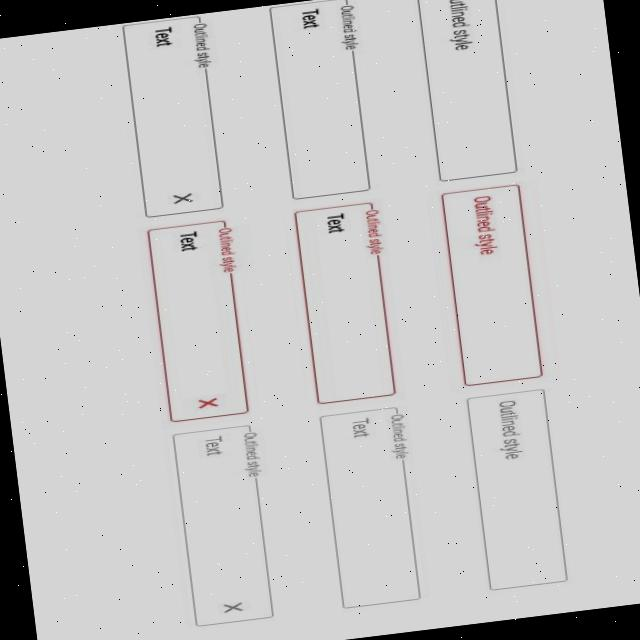VTextField: (292, 198, 404, 404), (316, 403, 428, 609), (118, 13, 230, 218), (168, 422, 280, 626), (143, 217, 254, 422), (265, 0, 378, 200), (438, 181, 545, 386), (464, 386, 570, 590), (414, 0, 519, 182)
